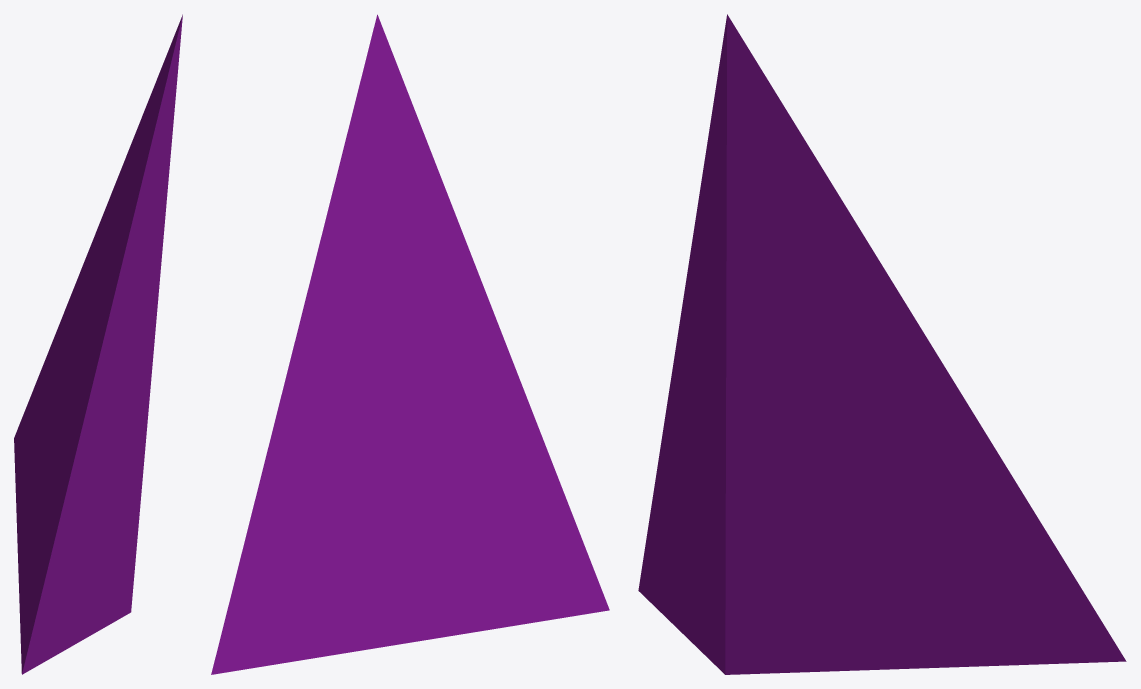
File: GemStone03.fbx
3 views of the same model, side by side, from view 1: azimuth 30°, elevation 25°; view 2: azimuth 150°, elevation 25°; view 3: azimuth 270°, elevation 25° (orthographic). The views are drawn at different scales.
Parts seen in each view (by area): view 1: Icosphere.004; view 2: Icosphere.004; view 3: Icosphere.004.
Part boxes in pixels (<box>): Icosphere.004: <box>14,14,182,674</box>; Icosphere.004: <box>211,14,609,674</box>; Icosphere.004: <box>638,14,1126,674</box>.
Size of the model in its own units: 26.12 by 73.48 by 47.03.
